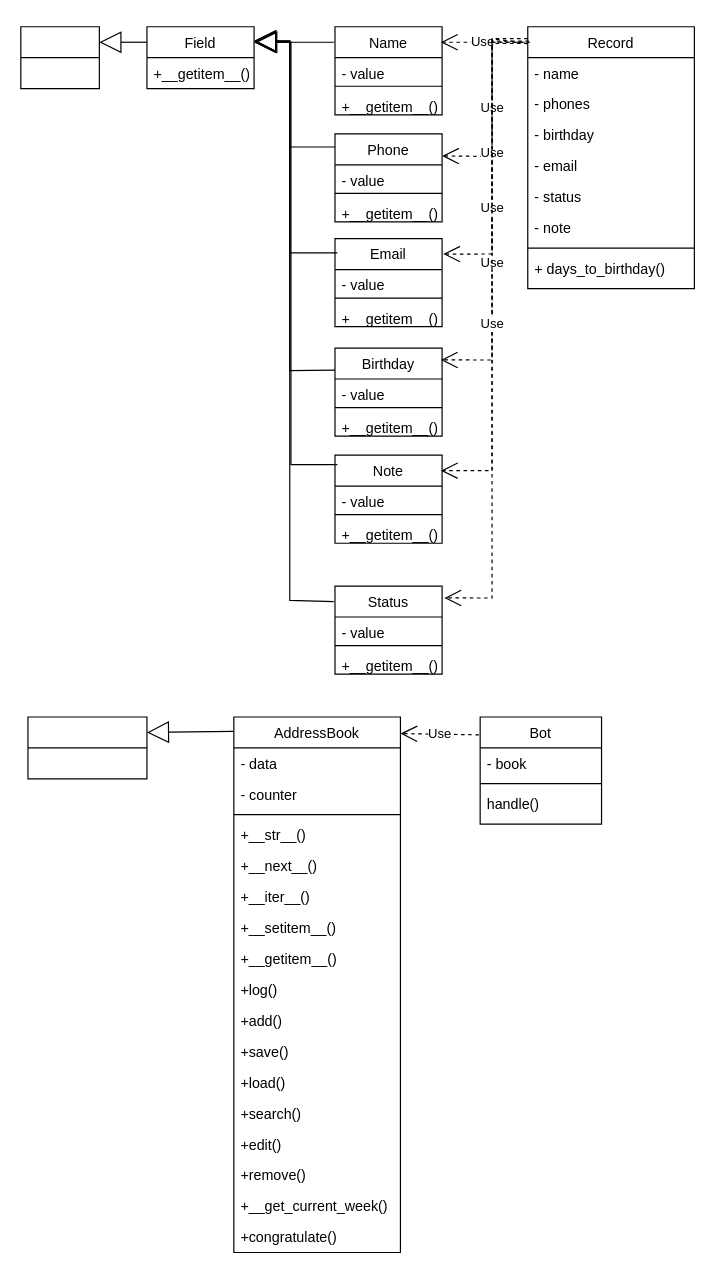
The diagram is 722 pixels wide and 1282 high, and some of its shapes have lost their labels. The centre of each missing label's shape, as x and y in pixels:
ABC: the point at 59,57
UserList: the point at 87,747
